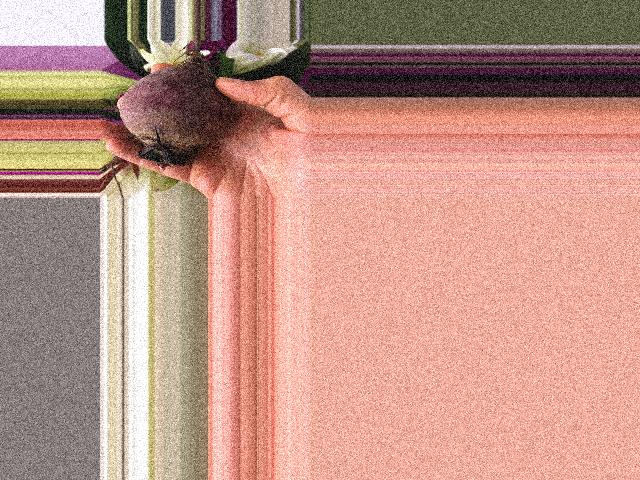beet: (118, 40, 232, 170)
